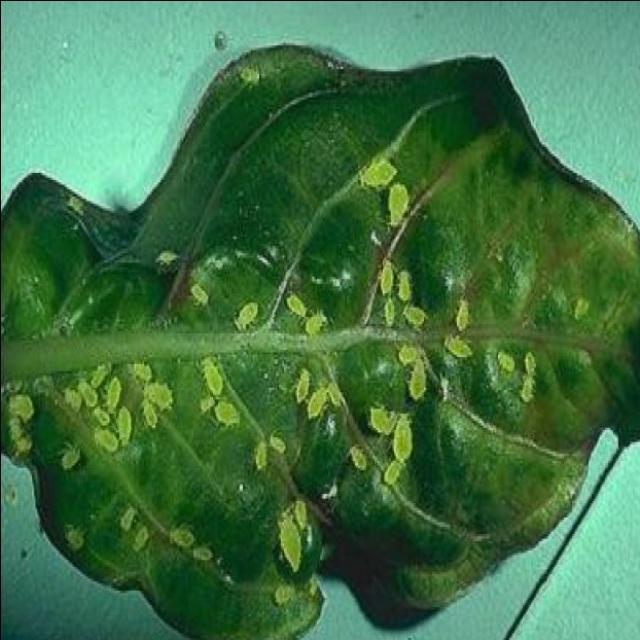Aphids: (370, 253, 474, 407), (57, 363, 172, 447), (344, 404, 419, 500), (268, 346, 343, 436), (346, 148, 428, 230), (492, 328, 550, 427), (225, 282, 332, 330), (190, 347, 238, 439), (268, 477, 312, 571), (168, 502, 215, 576), (0, 383, 39, 463), (115, 498, 154, 558), (246, 438, 292, 479), (261, 573, 303, 615)
